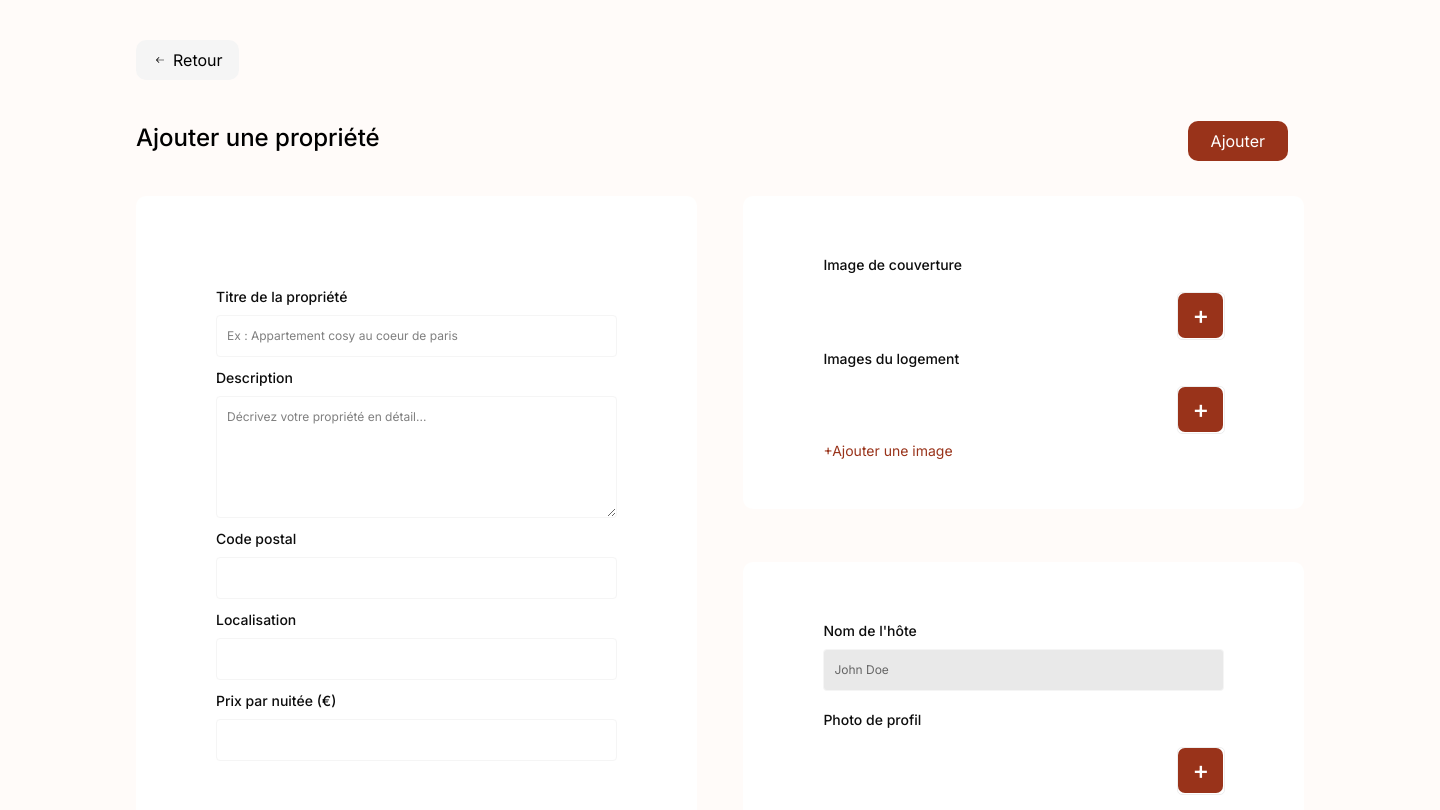
Test case: ajouter une propriété › soulève une erreur si le champ description est trop court
Type "descripti" into the text box labelled "Description".
click(416, 457); type("descripti")  # box [216,396,617,518]
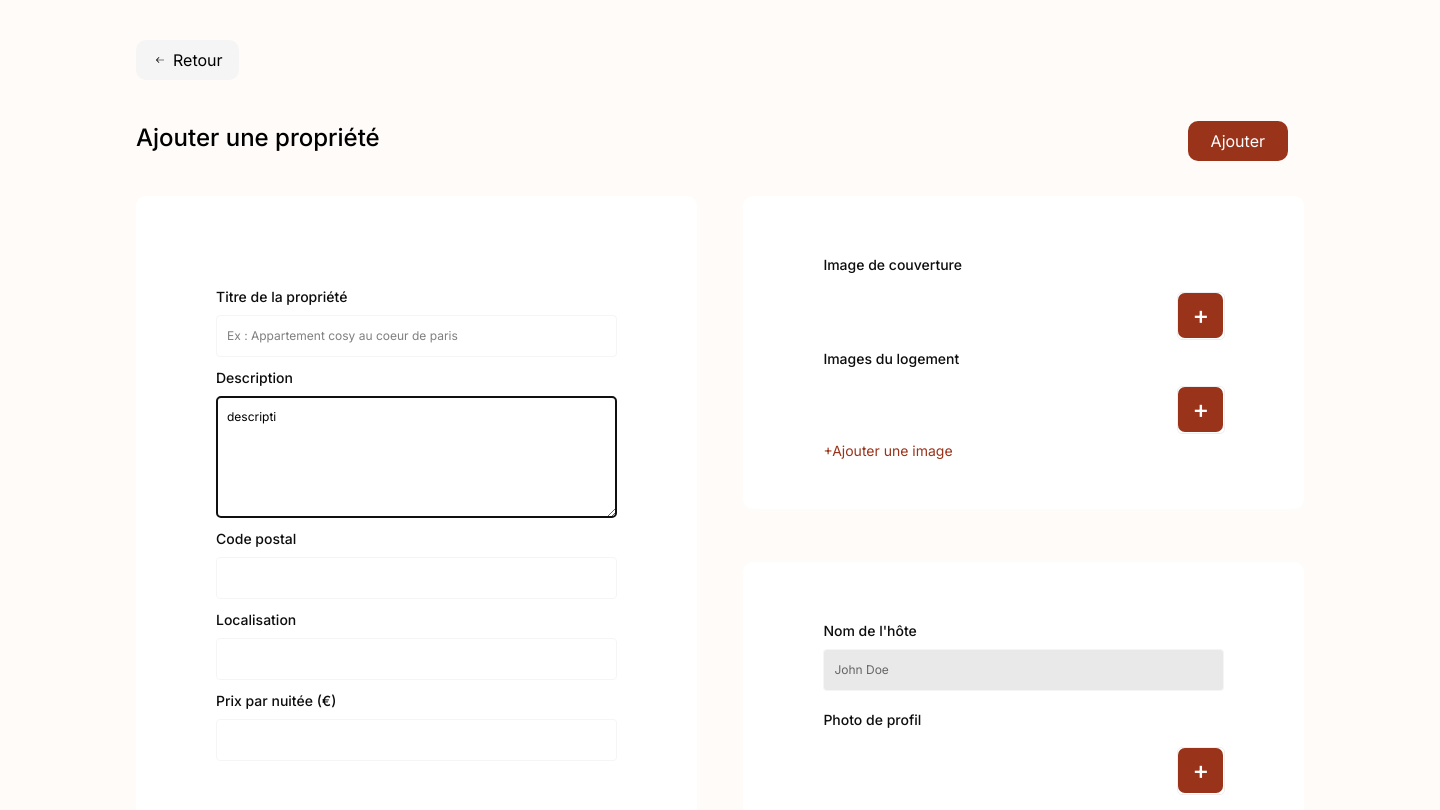
Click the button with aria-label "Ajouter la propriété".
click(1238, 141)  # box [1188,121,1288,161]
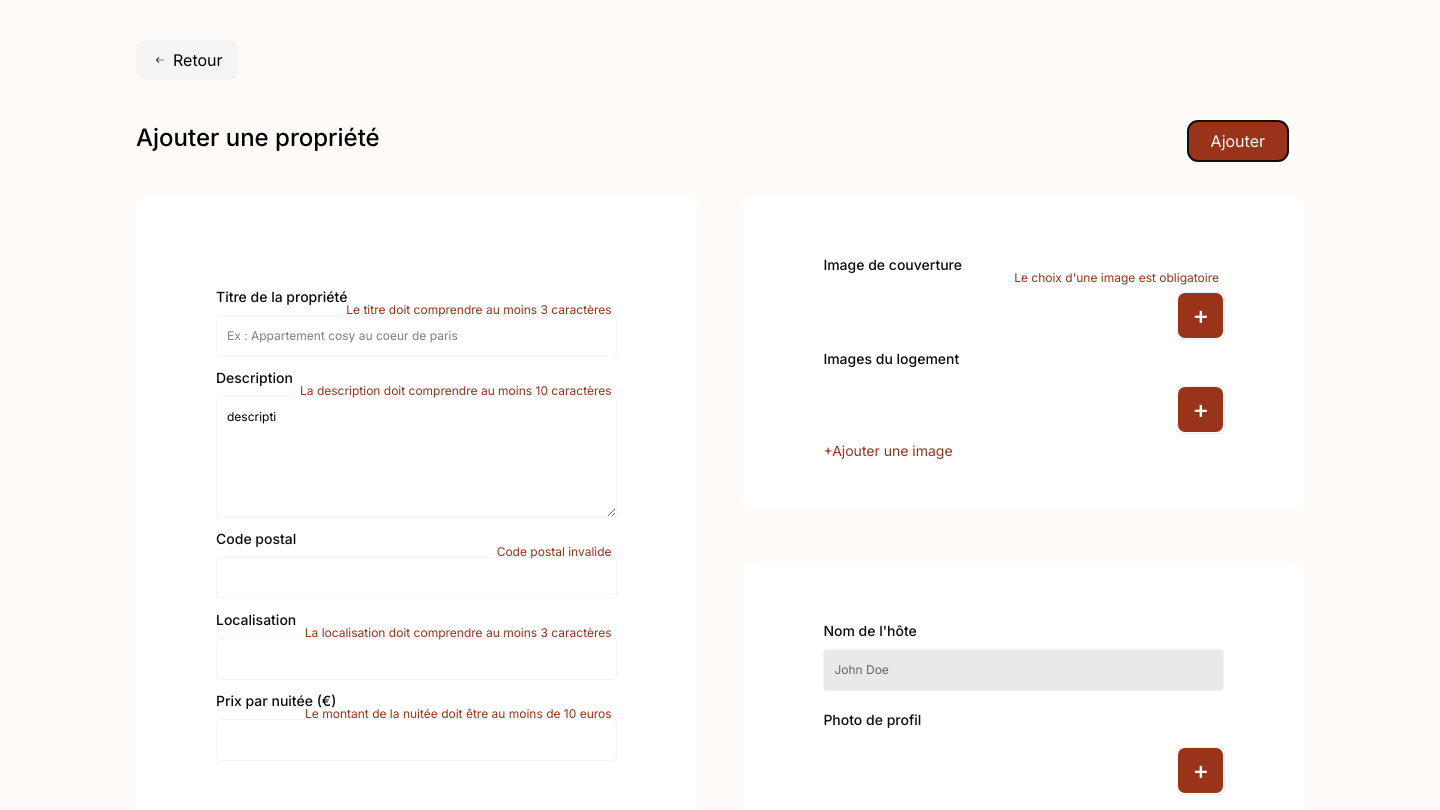
Now the text "La description doit comprendre au moins 10 caractères" is shown, box [300,382,612,400]
